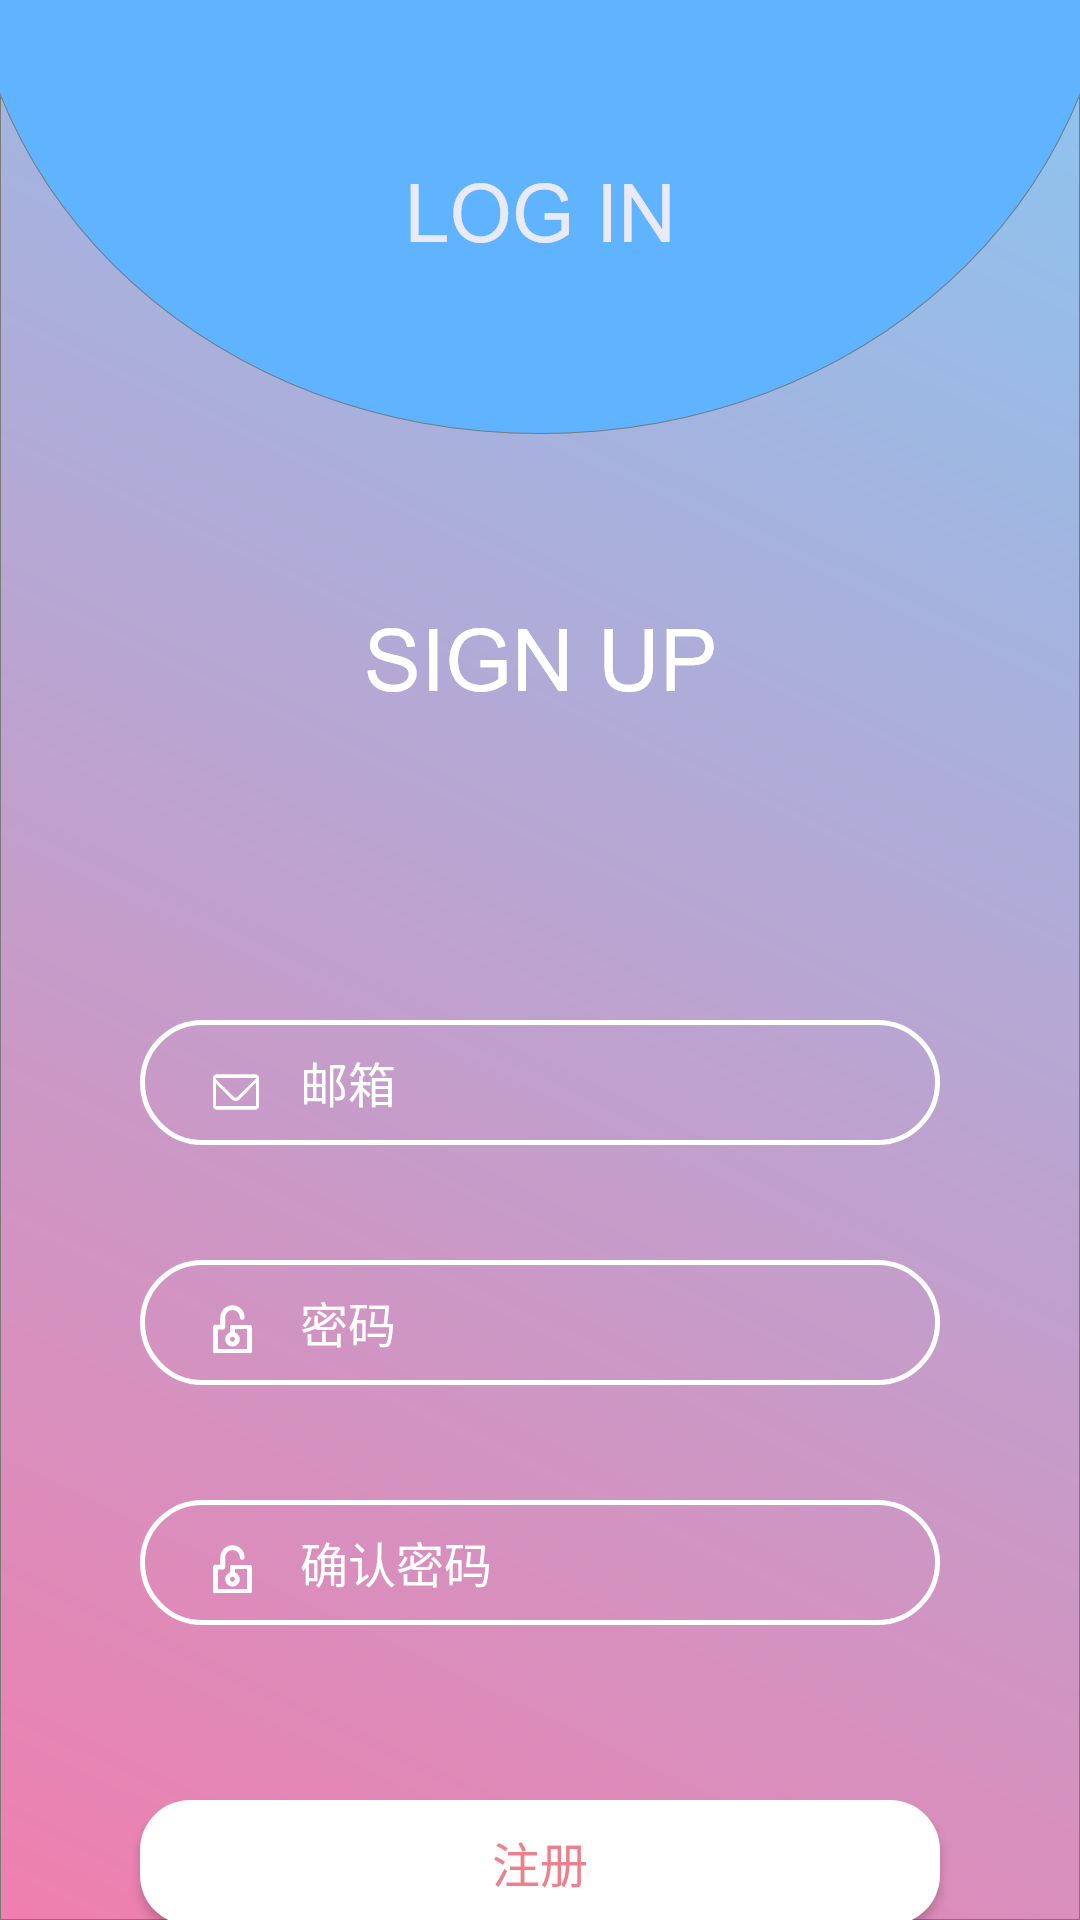

Locate icon controls on the screen. Image size 1080w x 1920h, boxes as box(x1, y1, x2, y2).
lock: box(213, 1305, 252, 1354), box(213, 1545, 252, 1594)
mail: box(213, 1074, 259, 1110)
